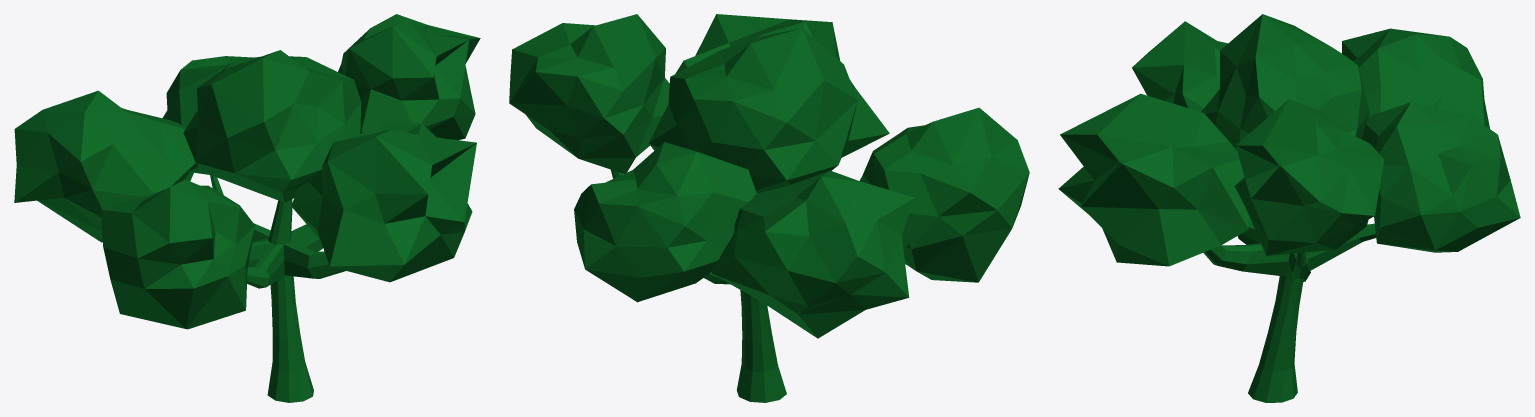
File: Giant_Low_Poly_Tree.glb
3 views of the same model, side by side, from view 1: azimuth 30°, elevation 25°; view 2: azimuth 150°, elevation 25°; view 3: azimuth 270°, elevation 25° (orthographic). The views are drawn at different scales.
Visible parts, largest first — view 1: Icosphere.004_0, Icosphere_0, Icosphere.002_0, Icosphere.001_0, Icosphere.003_0, Cylinder_0, Icosphere.005_0; view 2: Icosphere.001_0, Icosphere_0, Icosphere.005_0, Icosphere.002_0, Icosphere.003_0, Icosphere.004_0, Cylinder_0; view 3: Icosphere.004_0, Icosphere.005_0, Icosphere.003_0, Icosphere_0, Icosphere.001_0, Cylinder_0, Icosphere.002_0.
Boxes of the visible parts, left/top/right/bottom form: Icosphere.004_0: left=291, top=123, right=476, bottom=282; Icosphere_0: left=183, top=50, right=361, bottom=202; Icosphere.002_0: left=101, top=179, right=255, bottom=329; Icosphere.001_0: left=14, top=90, right=197, bottom=242; Icosphere.003_0: left=338, top=14, right=480, bottom=140; Cylinder_0: left=210, top=175, right=345, bottom=402; Icosphere.005_0: left=162, top=56, right=253, bottom=174; Icosphere.001_0: left=711, top=170, right=914, bottom=338; Icosphere_0: left=648, top=28, right=857, bottom=193; Icosphere.005_0: left=574, top=142, right=756, bottom=302; Icosphere.002_0: left=859, top=107, right=1029, bottom=282; Icosphere.003_0: left=509, top=14, right=669, bottom=173; Icosphere.004_0: left=675, top=14, right=889, bottom=157; Cylinder_0: left=611, top=169, right=786, bottom=402; Icosphere.004_0: left=1058, top=93, right=1248, bottom=266; Icosphere.005_0: left=1362, top=102, right=1520, bottom=252; Icosphere.003_0: left=1234, top=99, right=1384, bottom=255; Icosphere_0: left=1201, top=14, right=1369, bottom=149; Icosphere.001_0: left=1342, top=28, right=1489, bottom=139; Cylinder_0: left=1203, top=213, right=1376, bottom=402; Icosphere.002_0: left=1132, top=21, right=1227, bottom=111.
Bounding box in the file's own units: 40.56 × 31.96 × 36.99.
